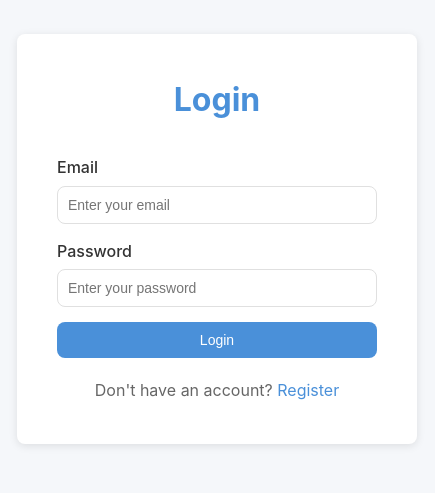
it: Login › should show error when fields are empty
Click the button "Login".
click(217, 340)  # box x1=57 y1=322 x2=377 y2=358
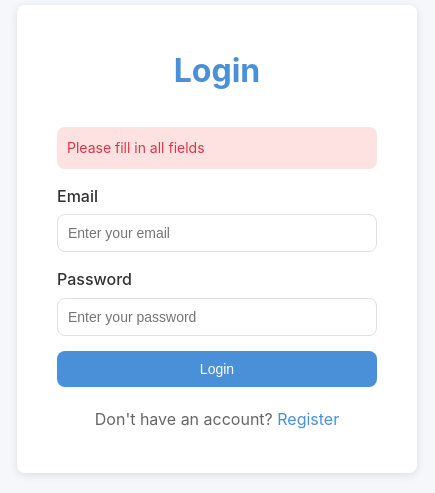
Check: the text "Please fill in all fields" is shown, box x1=57 y1=126 x2=377 y2=169
